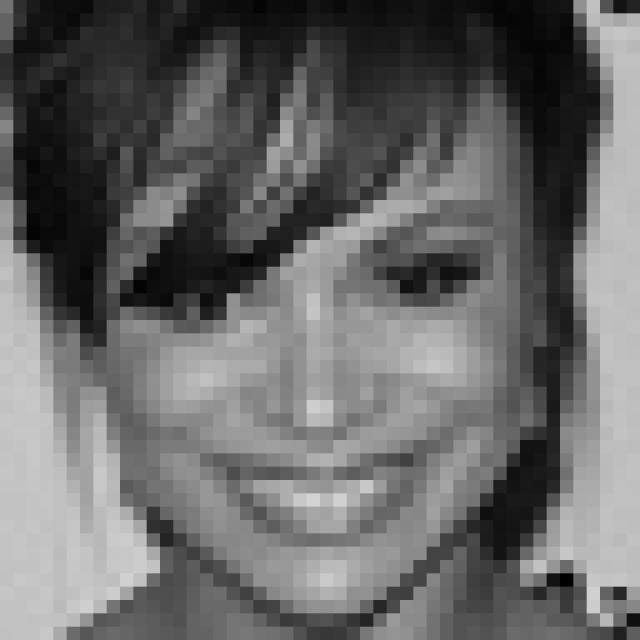happy: (125, 204, 514, 560)
